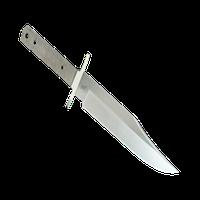knife: (10, 20, 184, 182)
